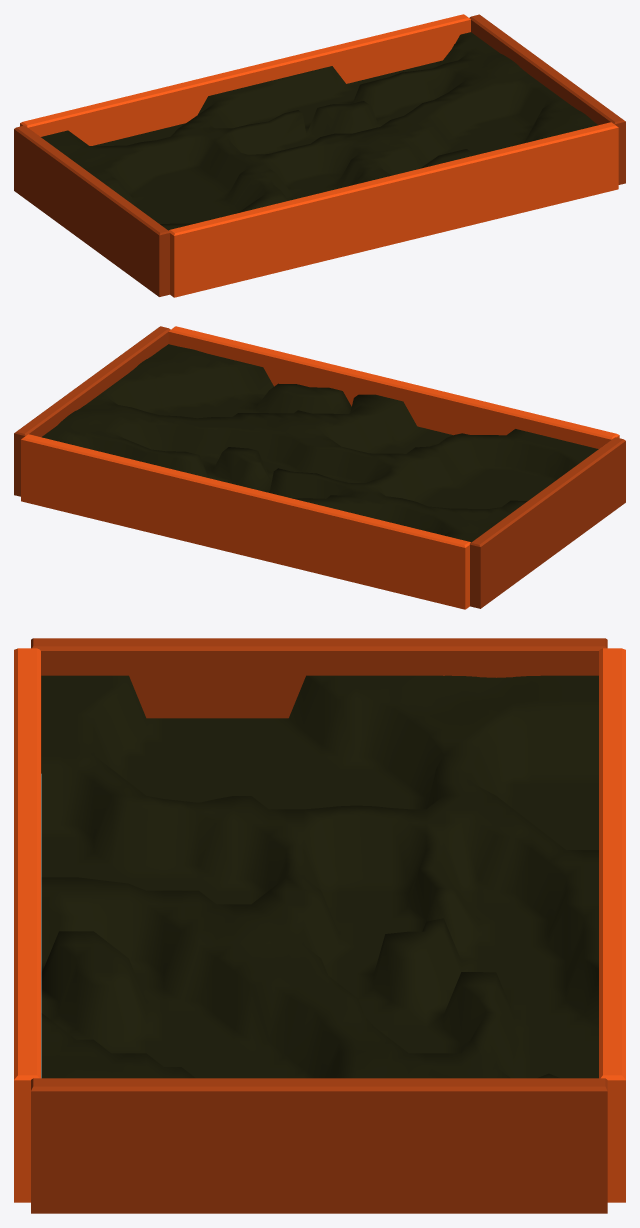
Rendered from 3D_ENVSB_001.FBX.
3 renders of one model, top to bottom at view 1: azimuth 30°, elevation 25°; view 2: azimuth 150°, elevation 25°; view 3: azimuth 270°, elevation 25°, orthographic. The views are drawn at different scales.
Visible parts, largest first — view 1: SandboxSand, WoodplanksLong001, WoodplanksLong, WoodplanksShort001, WoodplanksShort; view 2: SandboxSand, WoodplanksLong, WoodplanksLong001, WoodplanksShort001, WoodplanksShort; view 3: SandboxSand, WoodplanksShort, WoodplanksShort001, WoodplanksLong, WoodplanksLong001.
Boxes of the visible parts, box(x1,y1,x2,y2) form: SandboxSand: box(41, 32, 597, 230); WoodplanksLong001: box(168, 122, 618, 297); WoodplanksLong: box(20, 14, 470, 145); WoodplanksShort001: box(14, 125, 169, 296); WoodplanksShort: box(469, 14, 625, 184); SandboxSand: box(41, 344, 598, 542); WoodplanksLong: box(21, 434, 470, 609); WoodplanksLong001: box(168, 326, 619, 448); WoodplanksShort001: box(470, 437, 625, 608); WoodplanksShort: box(14, 326, 170, 496); SandboxSand: box(41, 675, 598, 1078); WoodplanksShort: box(31, 1078, 607, 1213); WoodplanksShort001: box(31, 638, 607, 773); WoodplanksLong: box(599, 648, 625, 1202); WoodplanksLong001: box(14, 648, 40, 1202).
Bounding box in the file's own units: 137 × 17.82 × 78.71.
